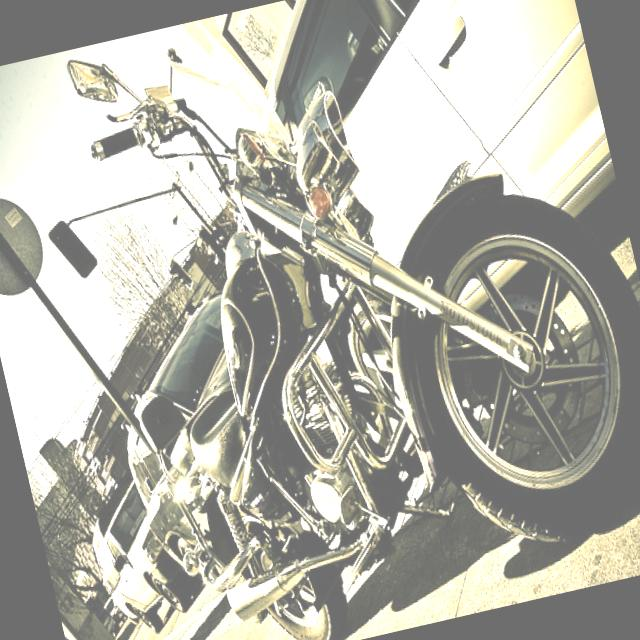Vehicle: (56, 0, 640, 640), (240, 0, 624, 287), (96, 295, 284, 588), (69, 458, 196, 640)
